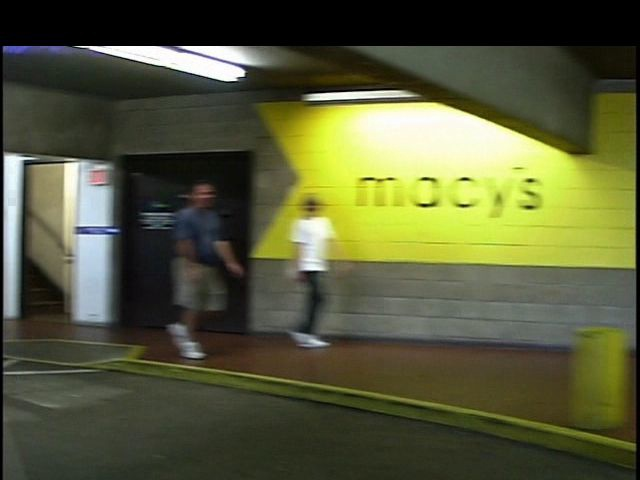person: (146, 175, 234, 364), (254, 188, 338, 361)
